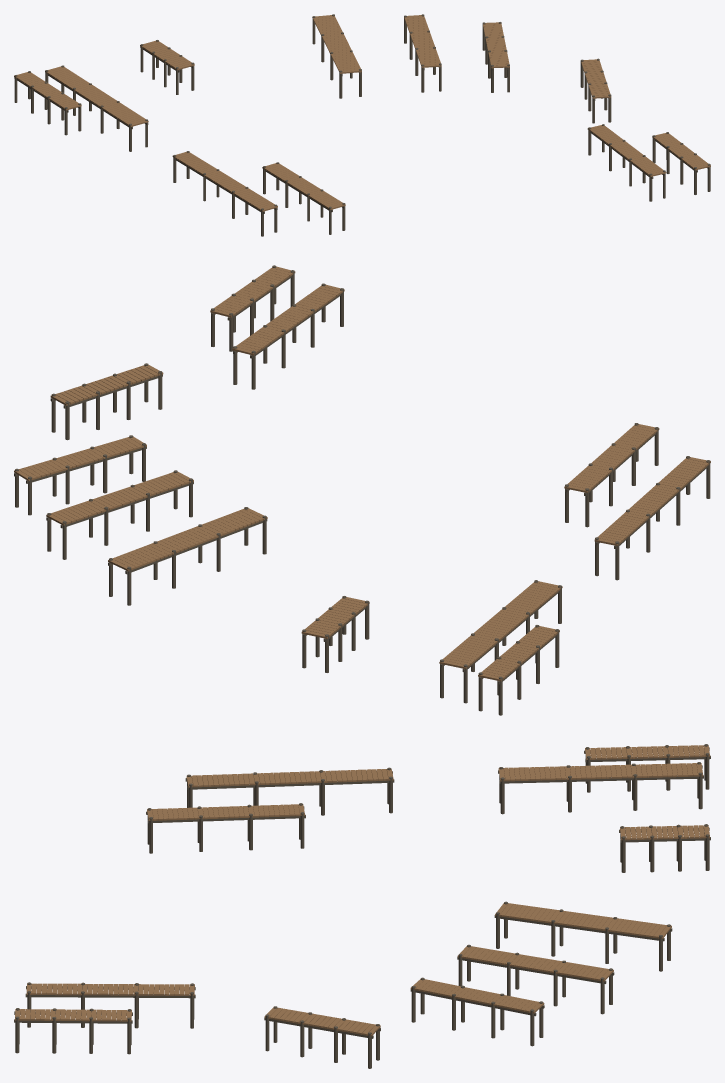
The model's file is 10_Timber_Piers.glb.
3 views of the same model, one above another, from view 1: azimuth 30°, elevation 25°; view 2: azimuth 150°, elevation 25°; view 3: azimuth 270°, elevation 25° (orthographic). The views are drawn at different scales.
Visible parts, largest first — view 1: no part large enough to name; view 2: no part large enough to name; view 3: Pier underbearer.018, Pier underbearer.003.
Part boxes in pixels (box(x1,y1,x2,y2)): Pier underbearer.018: box(187, 779, 394, 789); Pier underbearer.003: box(499, 775, 703, 783).
Bounding box in the file's own units: 70.69 × 4 × 71.83.
